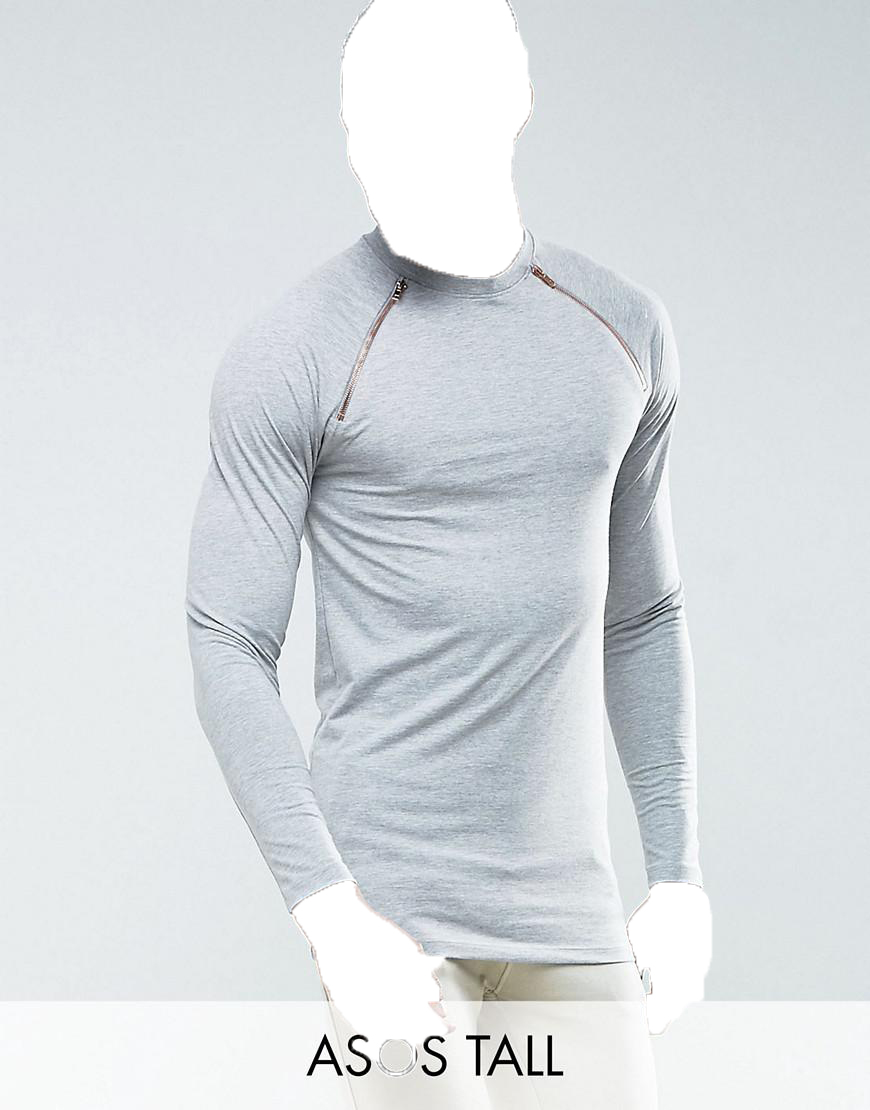teeshirt: (164, 222, 744, 954)
